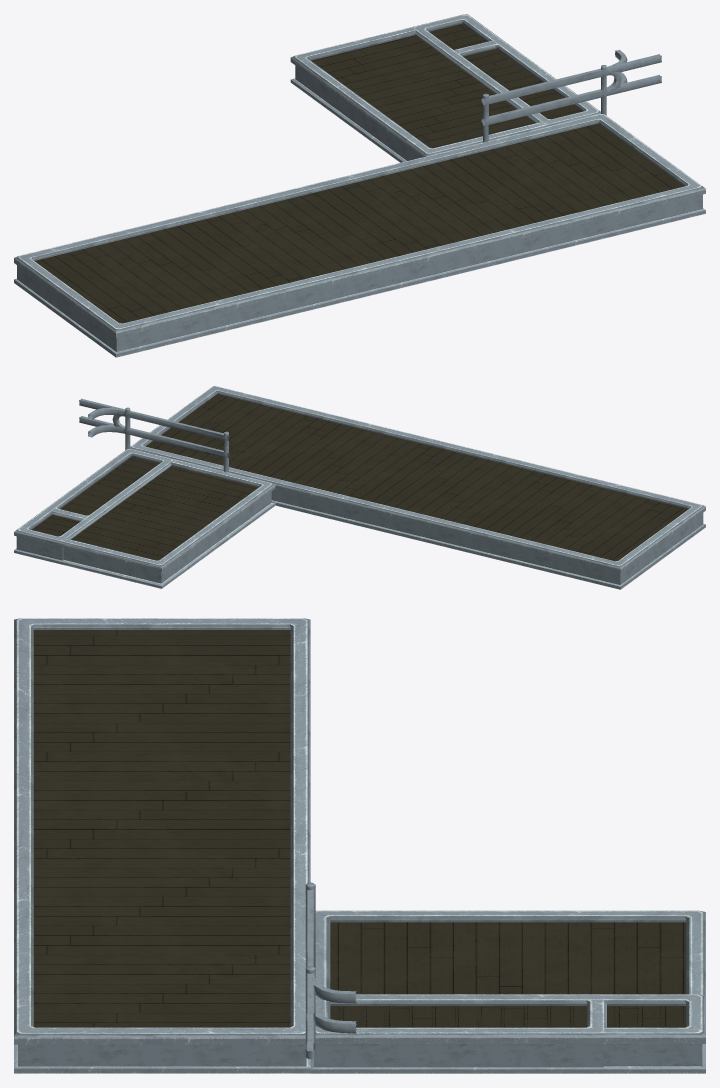
The model's file is WalkWays.fbx.
The picture shows the model from 3 angles, top to bottom: view 1: azimuth 30°, elevation 25°; view 2: azimuth 150°, elevation 25°; view 3: azimuth 270°, elevation 25°; orthographic projection. The views are drawn at different scales.
Visible parts, largest first — view 1: WWWideLong, WWWideShort, WWSlimLong, WWSlimSml, Railing, RailingConnect; view 2: WWWideLong, WWWideShort, WWSlimLong, WWSlimSml, Railing, Railing.Corner, RailingConnect; view 3: WWWideLong, WWWideShort, WWSlimLong, WWSlimSml, Railing.Corner, Railing, RailingConnect.
Boxes of the visible parts, x1,y1,x2,y2 form: WWWideLong: (14,114,705,357); WWWideShort: (290,15,599,162); WWSlimLong: (413,14,600,127); WWSlimSml: (442,39,600,122); Railing: (481,65,608,142); RailingConnect: (607,54,661,95); WWWideLong: (130,386,705,589); WWWideShort: (14,449,275,588); WWSlimLong: (14,448,173,564); WWSlimSml: (46,451,172,523); Railing: (124,407,229,472); Railing.Corner: (88,408,125,437); RailingConnect: (79,398,124,429); WWWideLong: (14,618,310,1073); WWWideShort: (310,910,705,1073); WWSlimLong: (310,994,705,1073); WWSlimSml: (312,994,606,1073); Railing.Corner: (307,973,356,1033); Railing: (305,882,315,1059); RailingConnect: (305,973,315,1051).
Bounding box in the file's own units: 1097 × 118 × 700.
